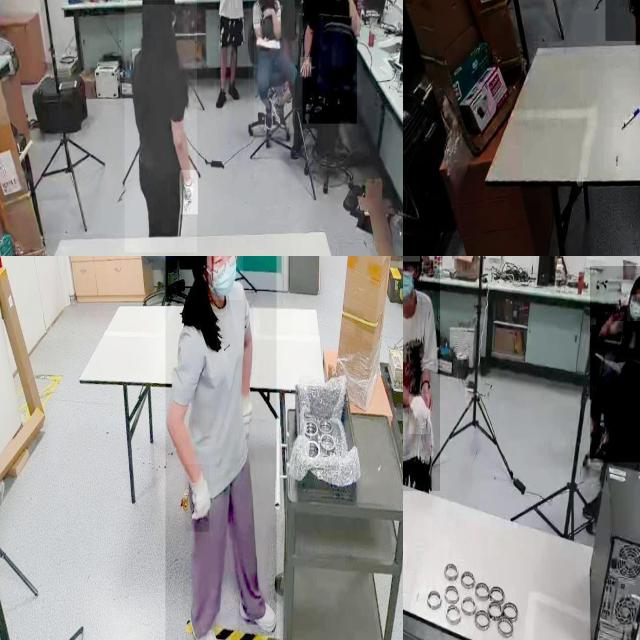face_mask: (201, 256, 243, 299), (403, 263, 414, 305), (627, 294, 640, 321), (262, 0, 275, 9)
glasses: (213, 256, 239, 278)
hand_glove: (185, 464, 210, 533), (409, 394, 431, 435), (181, 170, 199, 215)
hand_noglove: (610, 301, 626, 322), (300, 57, 312, 77), (260, 6, 274, 20)
head_nohelmet: (631, 273, 640, 294)
person: (165, 256, 276, 640), (124, 0, 197, 253), (590, 265, 640, 463), (403, 256, 440, 492), (302, 0, 357, 124), (254, 0, 295, 134), (216, 0, 249, 107)
shoes: (236, 592, 277, 636), (187, 598, 222, 640), (272, 95, 290, 128), (215, 85, 228, 112), (263, 96, 273, 130), (227, 80, 241, 101)
